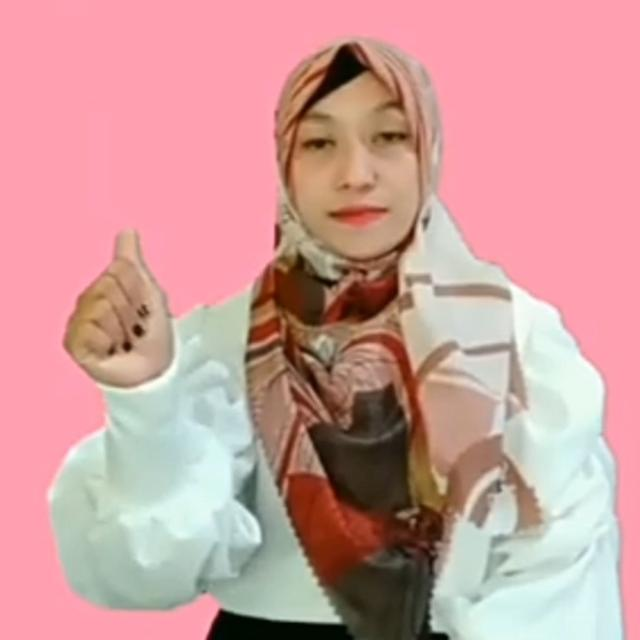A: (58, 220, 184, 402)
